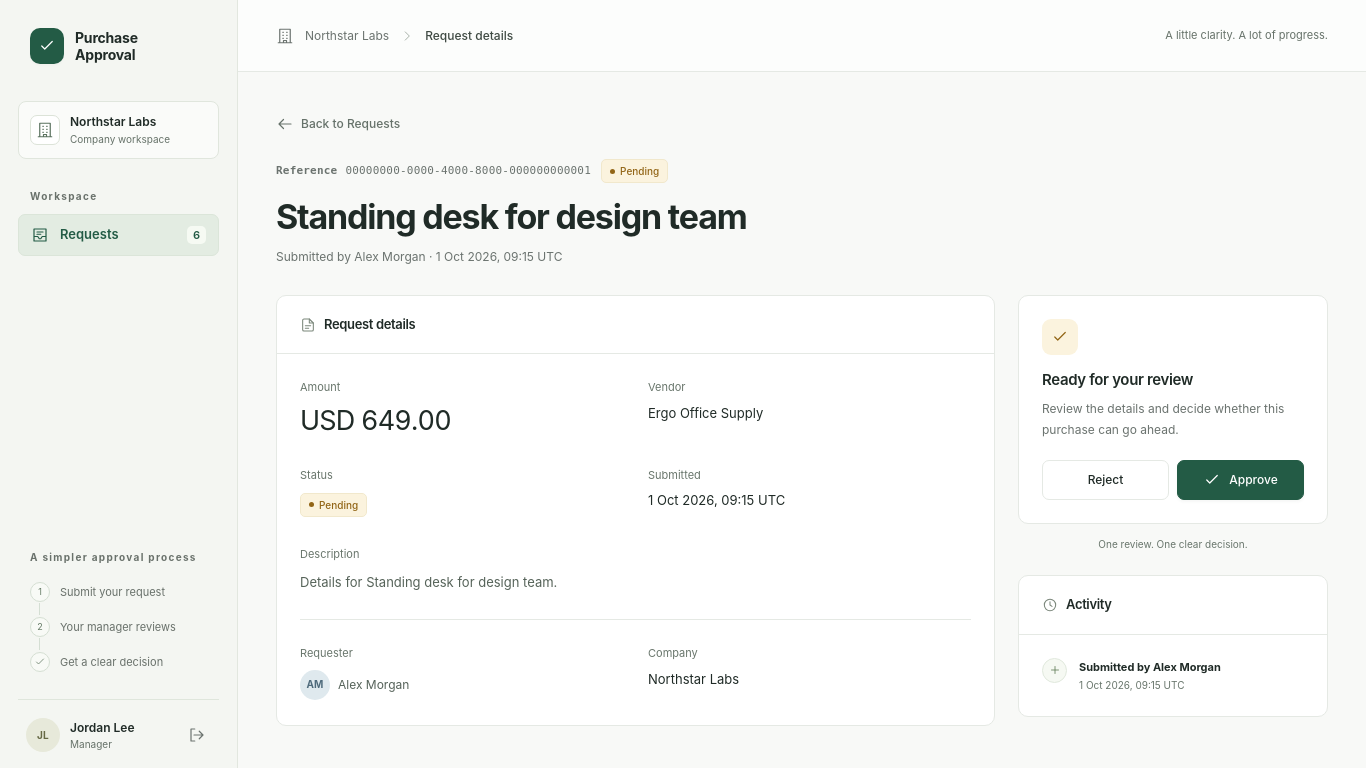
it: rejecting › requires a reason, shows the error inline and focuses the field
The width and height of the screenshot is (1366, 768).
Click the button "Reject": (1106, 480) top-left (1042, 460), bottom-right (1169, 500)
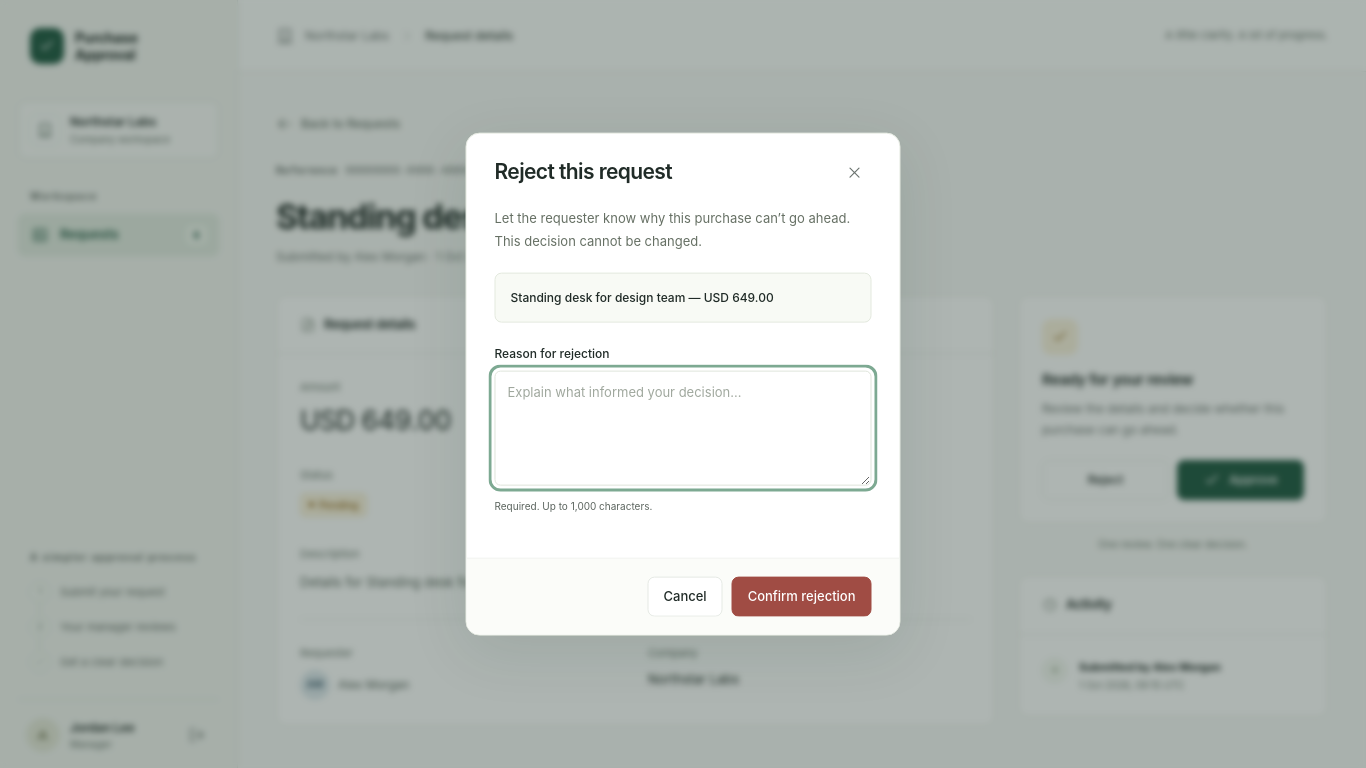
Click the button "Confirm rejection": (802, 596) top-left (732, 576), bottom-right (872, 616)
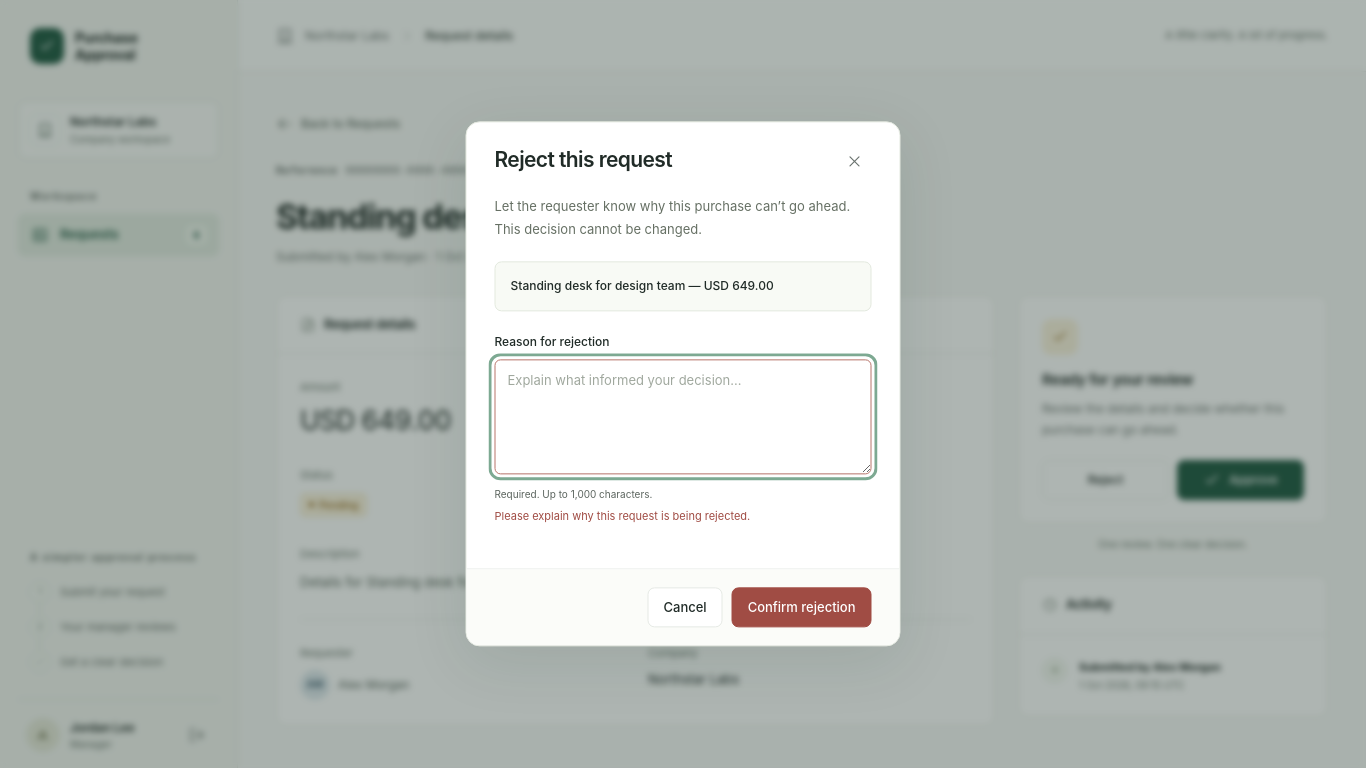
Now the text "Please explain why this request is being rejected." is shown, box top-left (494, 509), bottom-right (750, 523)
